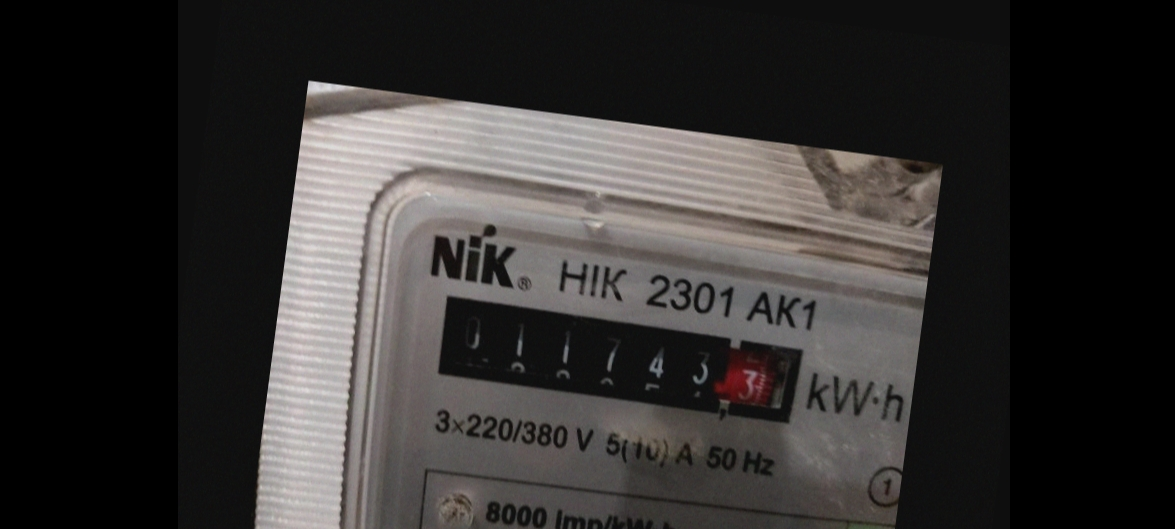0: (459, 314, 486, 355), (509, 319, 532, 362)
1: (555, 326, 576, 369)
3: (688, 347, 714, 392), (735, 366, 760, 406)
4: (644, 341, 669, 383)
7: (597, 332, 626, 379)
screen: (415, 282, 814, 439)
